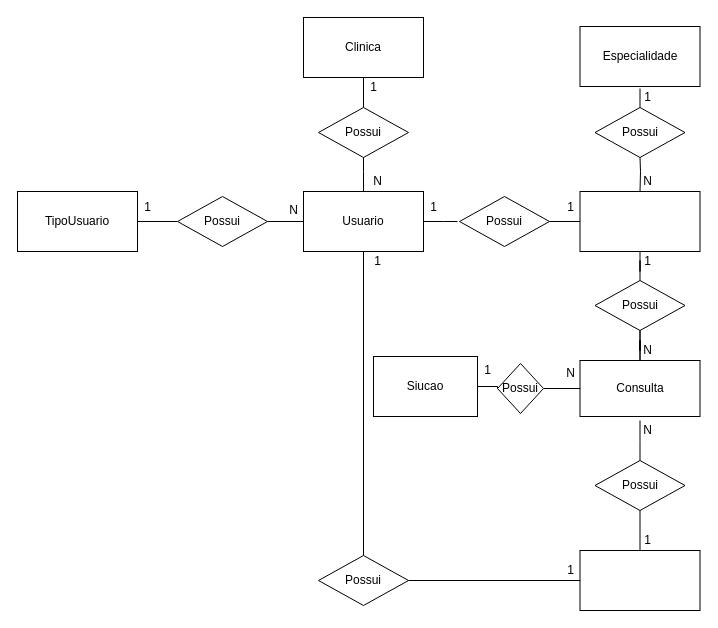
This 718x628 diagram has some shape labels left out. The centre of each missing label's shape, as x and y in pixels:
"Médico" belongs at [639,221].
"Paciente" belongs at [639,580].
